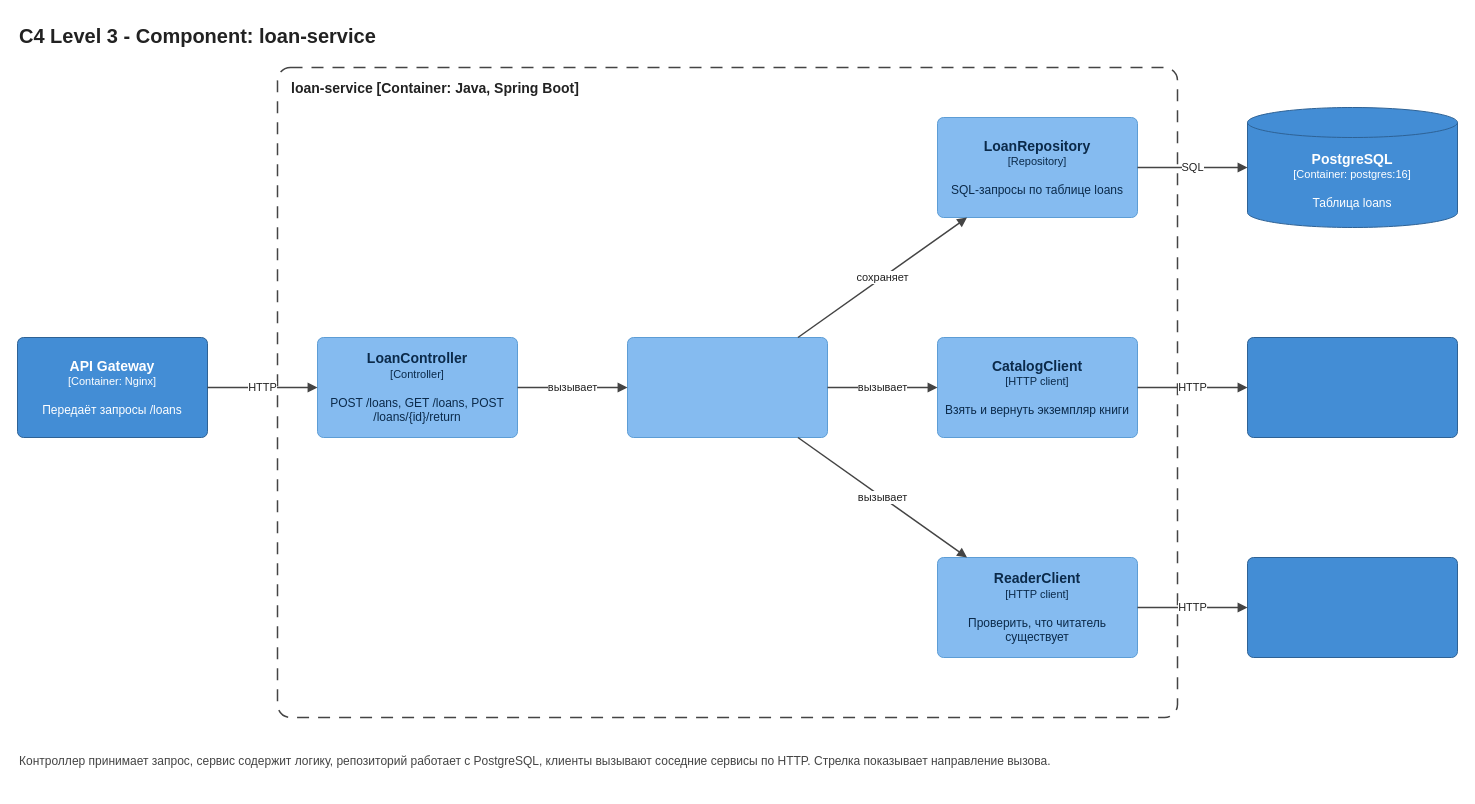
Some shapes in this 1475 by 804 pixel diagram are drawn without their labels. The box of each missing label's shape, as (x1, y1, x2, y2) in pixels:
catalog-service [Container: Java, Spring Boot] Каталог книг: (1246, 336, 1458, 438)
LoanService [Service] Логика выдачи и возврата: (626, 336, 828, 438)
reader-service [Container: Java, Spring Boot] Читатели: (1246, 556, 1458, 658)
